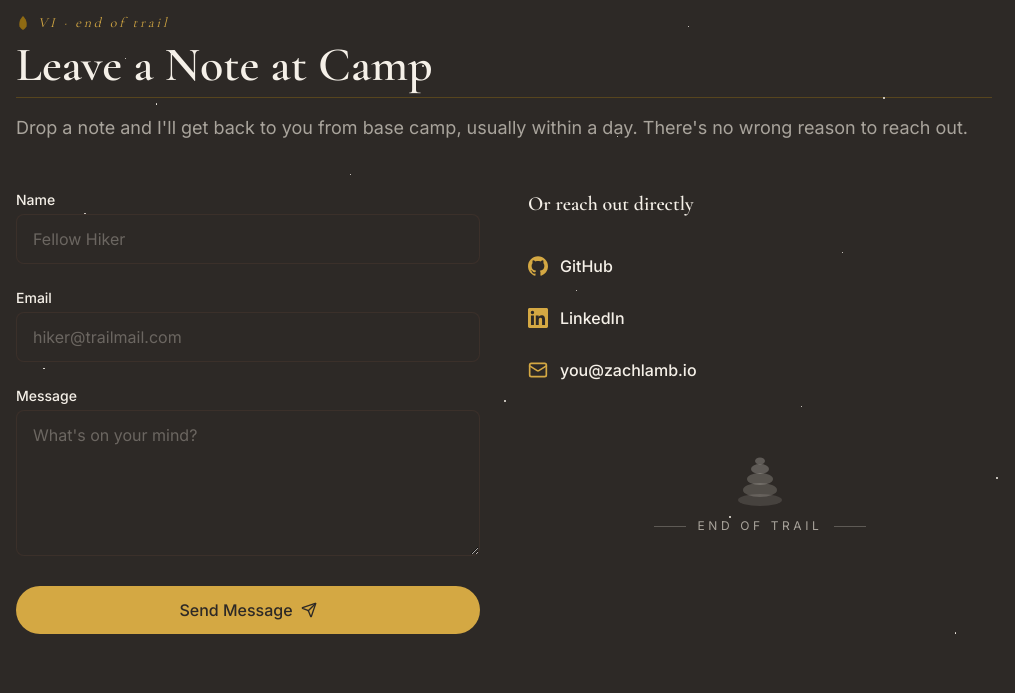
Scenario: Contact › shows rate limit message when API returns 429
Type "Test" into the field labelled "Name" at {"x": 248, "y": 239}, box [16,214,480,264]
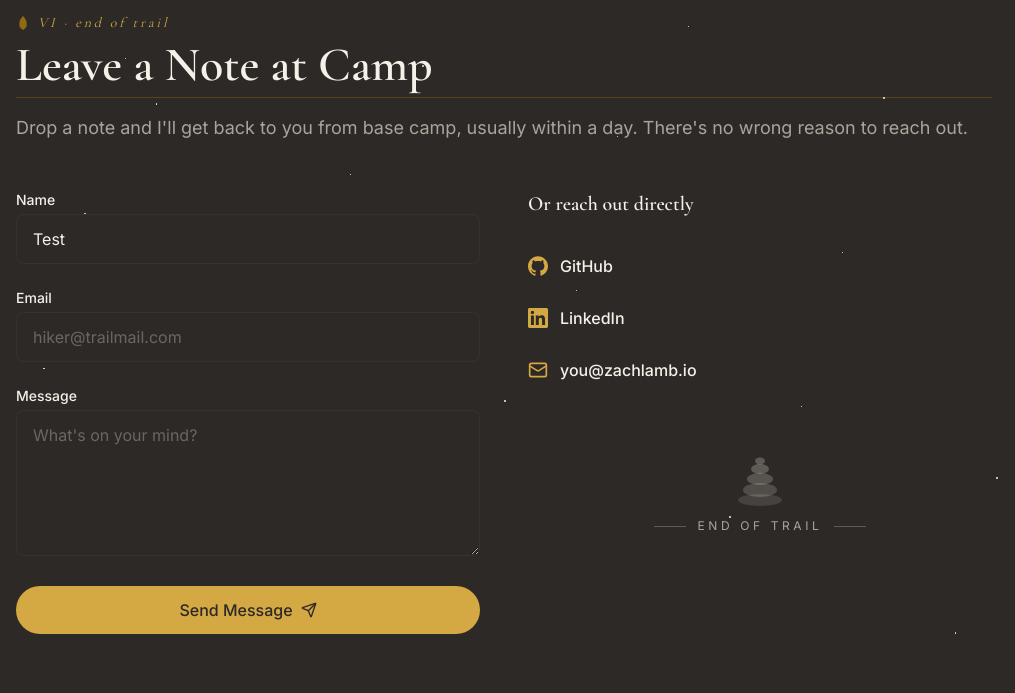
Type "test@test.com" into the field labelled "Email" at {"x": 248, "y": 337}, box [16,312,480,362]
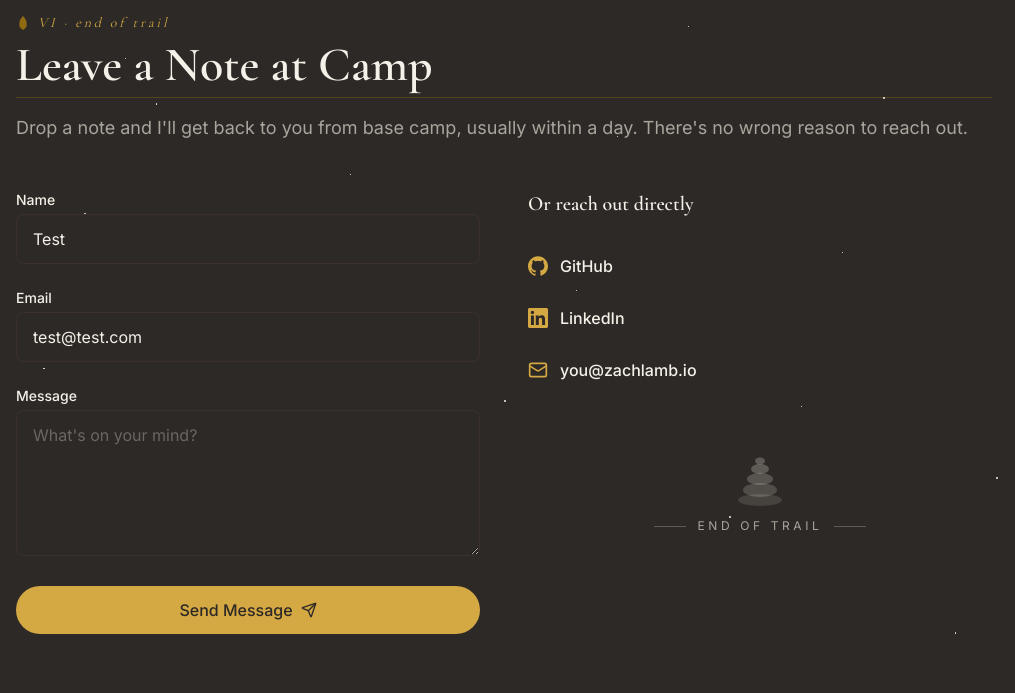
Type "Hello" into the text box labelled "Message" at {"x": 248, "y": 483}, box [16,410,480,556]
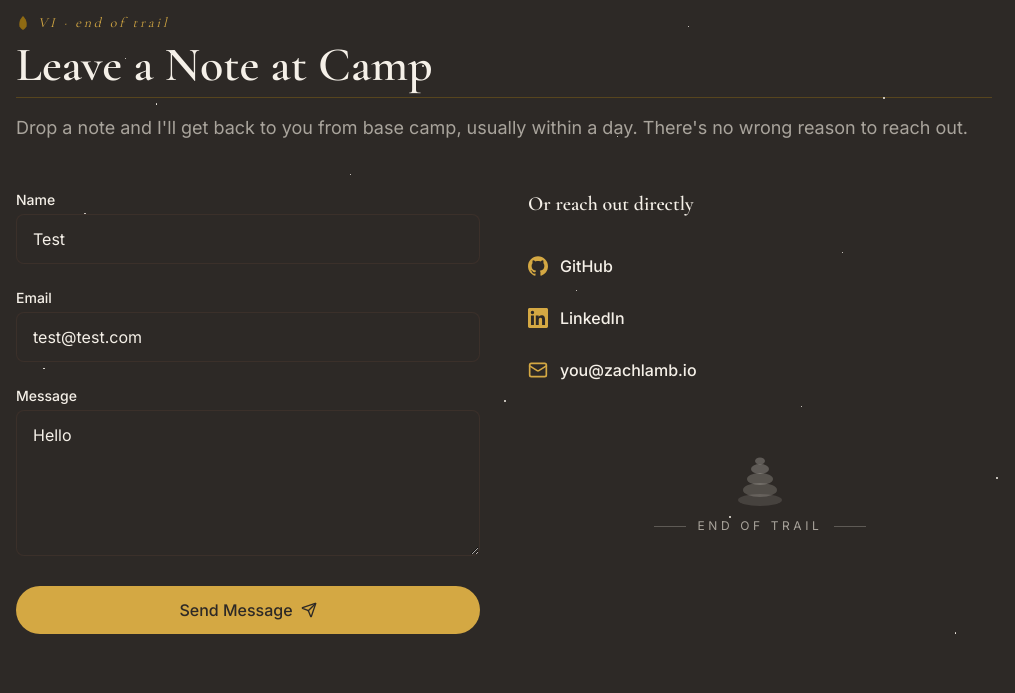
Submit the text "Send Message", box [16,190,480,658]
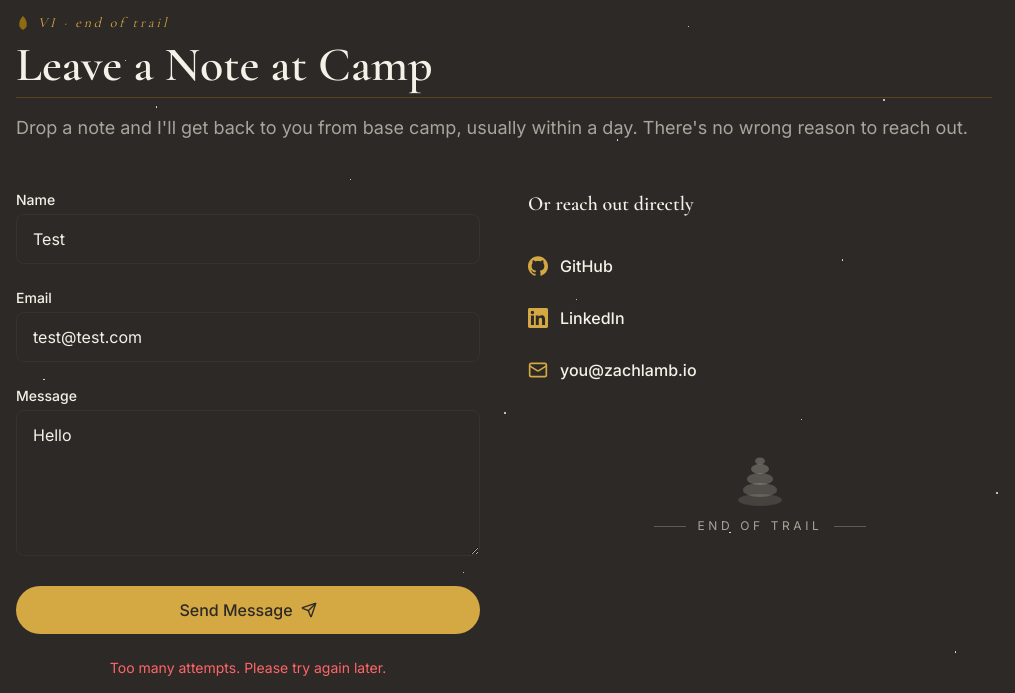
Result: the text "Too many attempts. Please try again later." is shown at [110,659,386,676]
